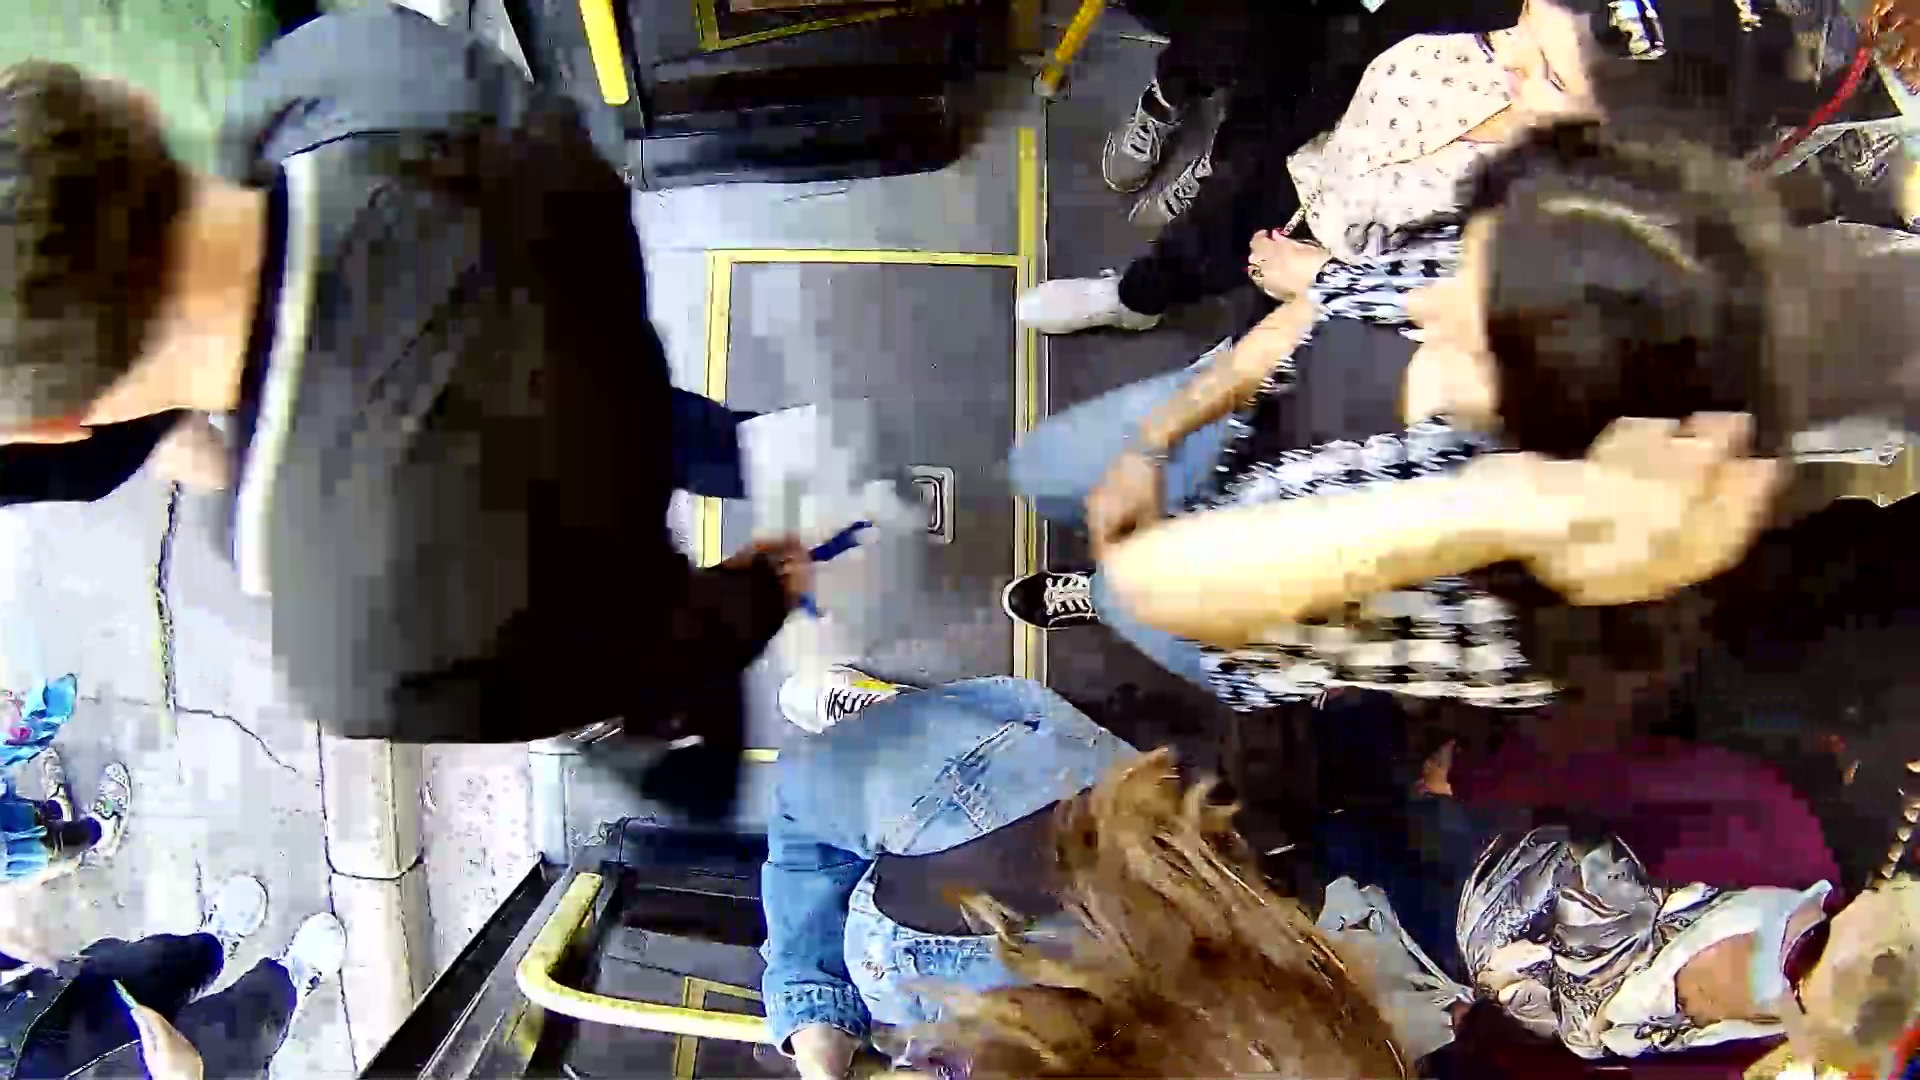person: (41, 78, 755, 687), (1179, 126, 1820, 665)
